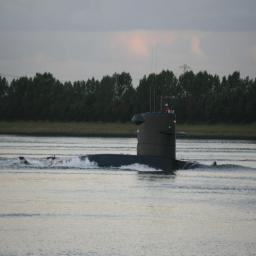submarine: (23, 112, 220, 166)
